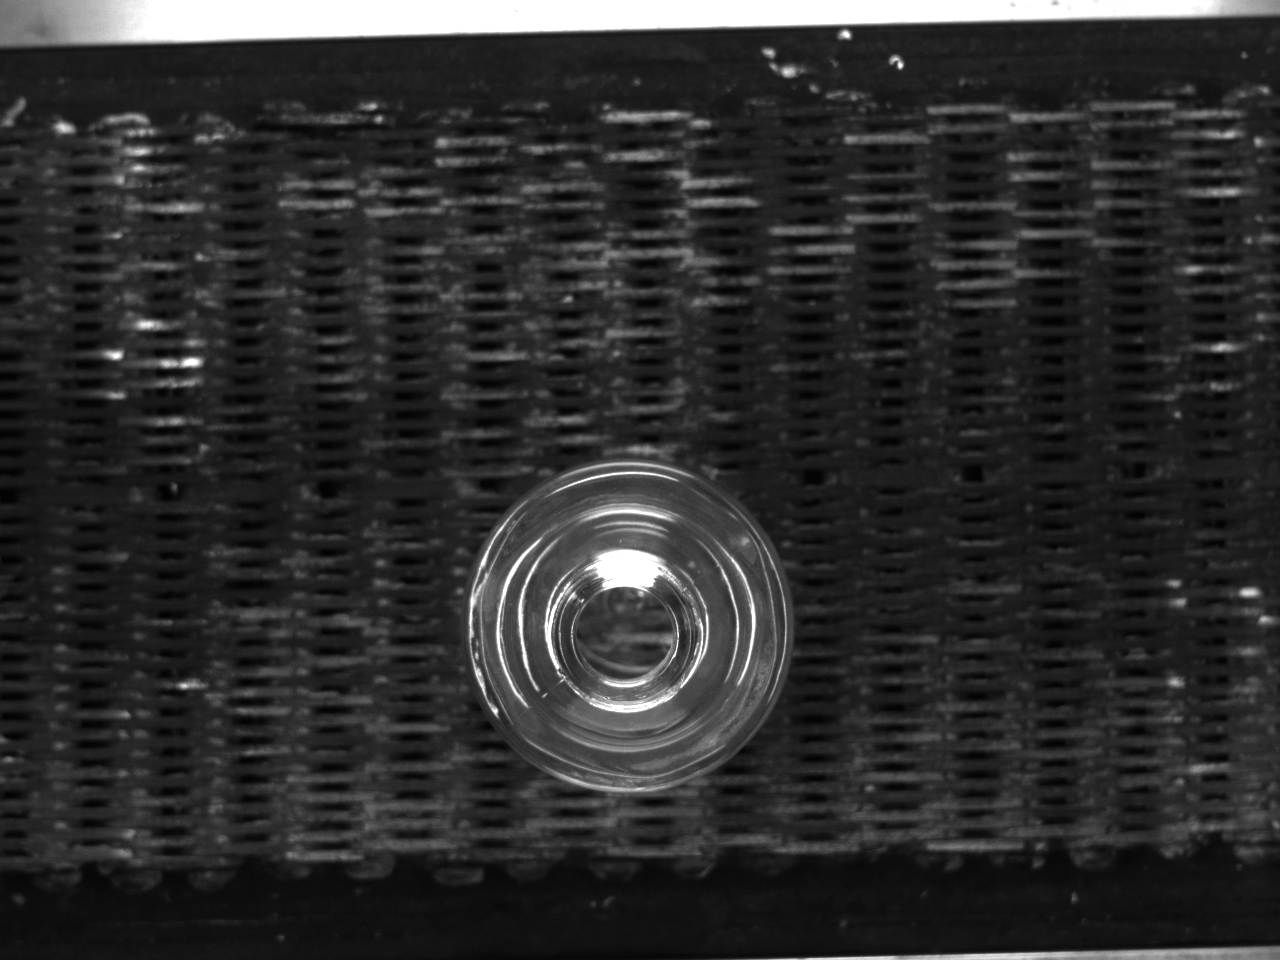bottleneck: (547, 550, 708, 714)
